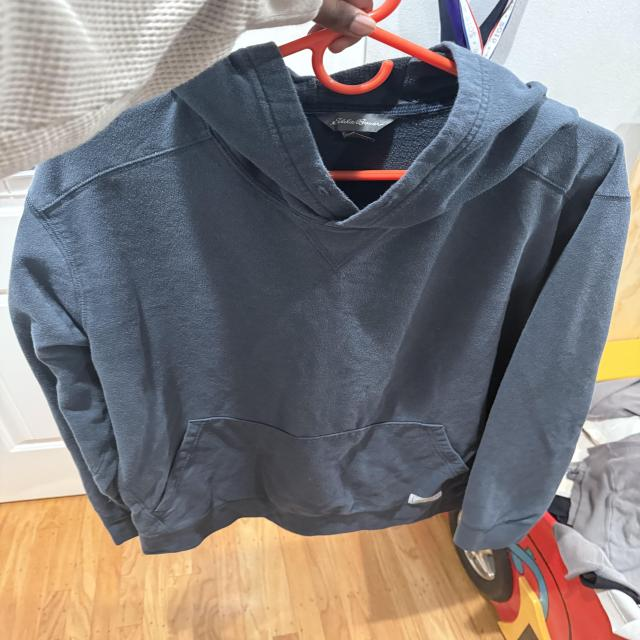back_tag: (318, 114, 402, 141)
